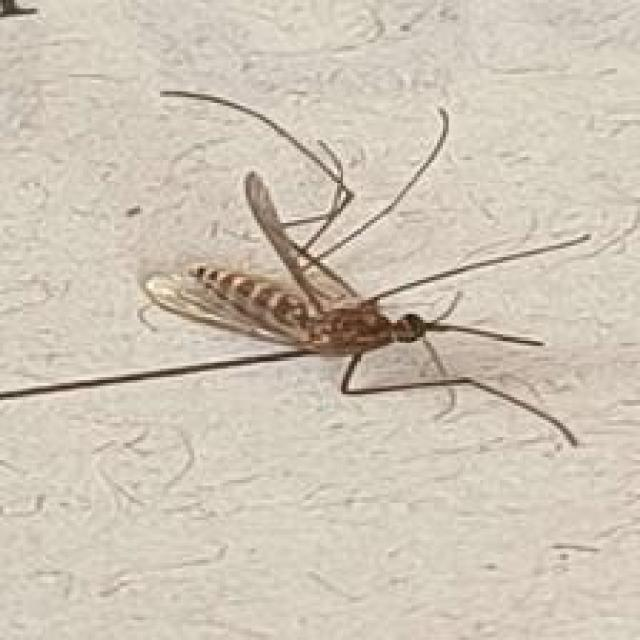Culex: (0, 89, 600, 452)
